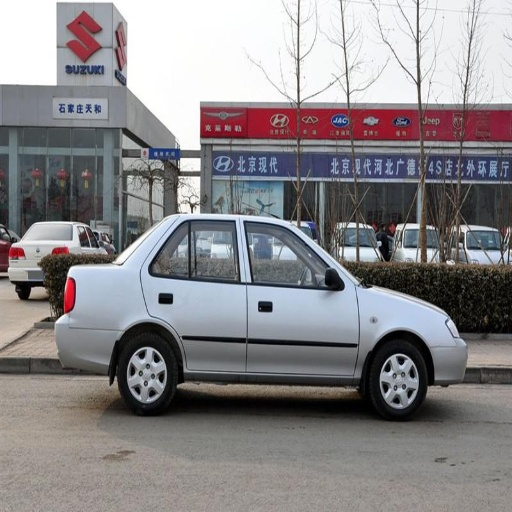back_right_door: (143, 219, 247, 374)
front_right_door: (241, 220, 359, 380)
